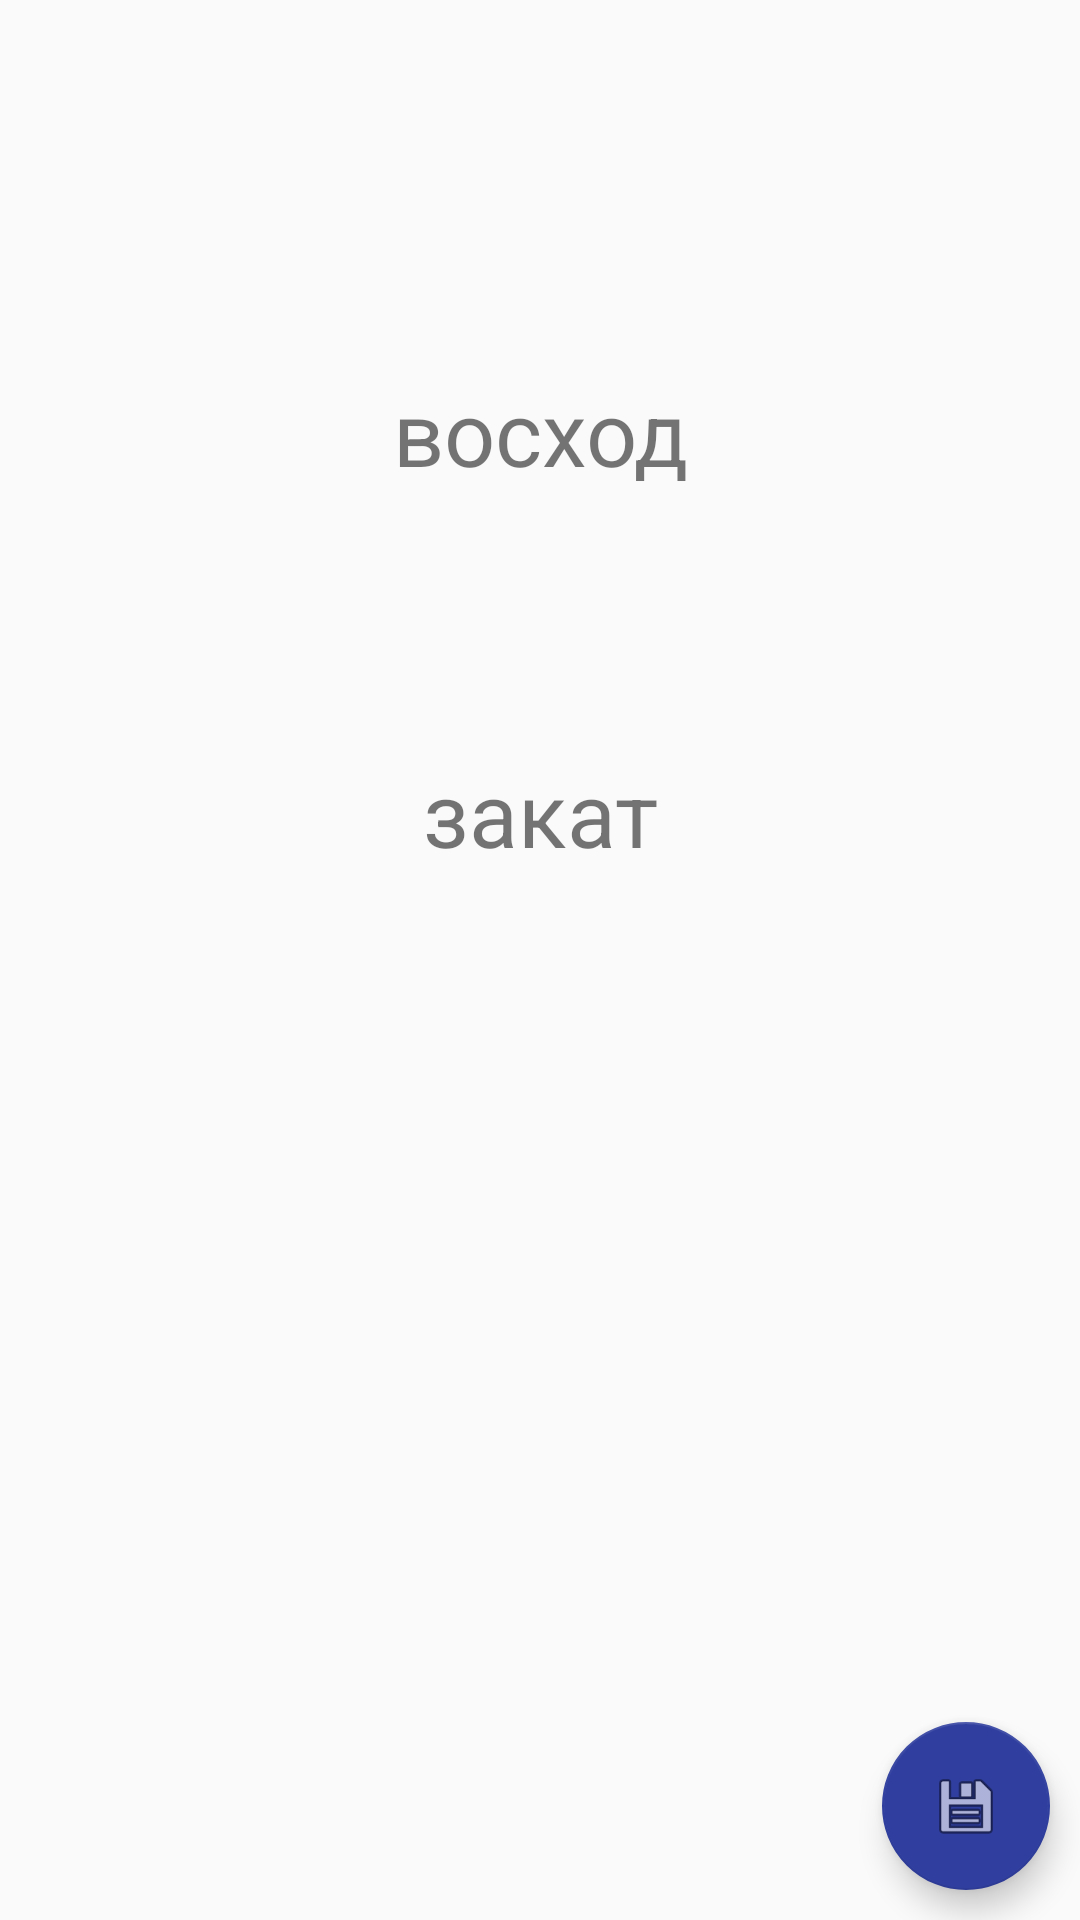

Icon bounding boxes for this 1080*1920 phone screenshot, format (x1,y1,x2,y2):
save: (882,1722,1050,1890)
